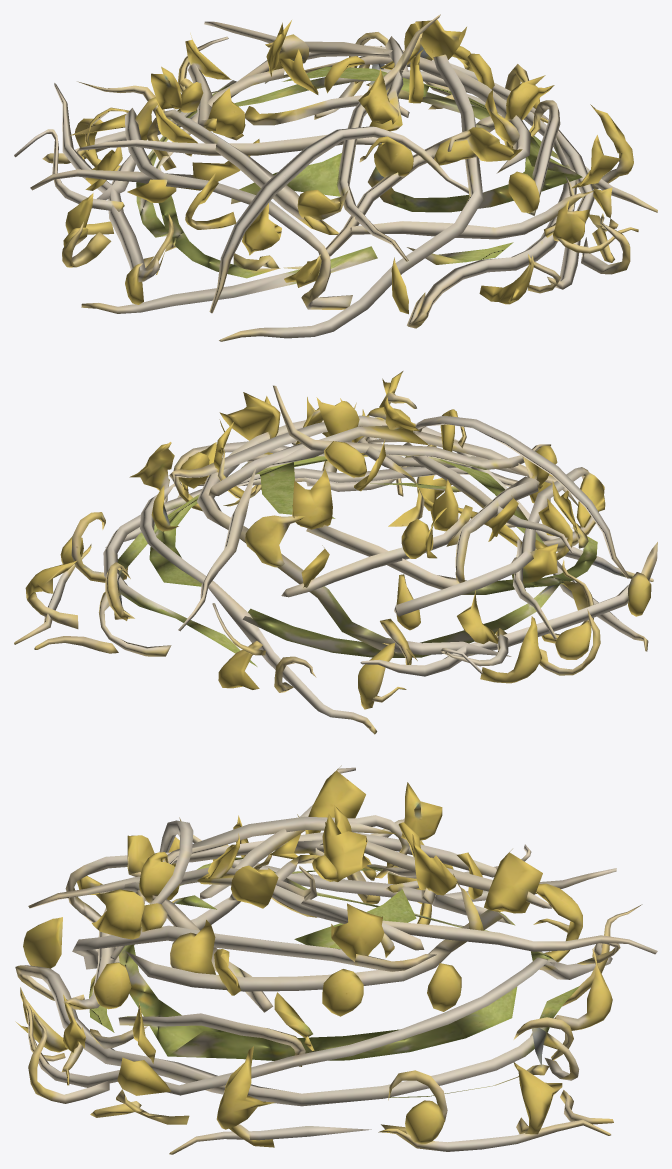
Rendered from optimized_glb.glb.
3 renders of one model, top to bottom at view 1: azimuth 30°, elevation 25°; view 2: azimuth 150°, elevation 25°; view 3: azimuth 270°, elevation 25°, orthographic. The views are drawn at different scales.
Visible parts, largest first — view 1: Bean Sprouts; view 2: Bean Sprouts; view 3: Bean Sprouts.
Boxes of the visible parts, x1,y1,x2,y2 form: Bean Sprouts: (14,14,657,341); Bean Sprouts: (14,371,657,734); Bean Sprouts: (15,765,657,1154).
Size of the model in its own units: 0.998 by 0.3535 by 0.9746.
1 material, 1 textured.
